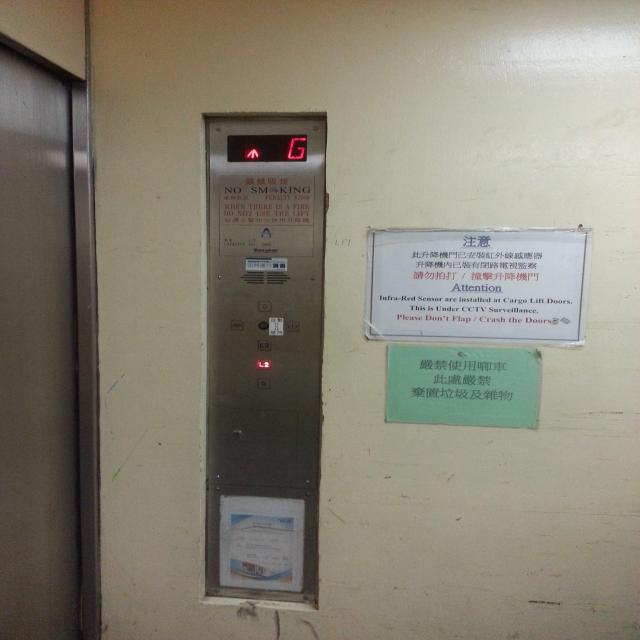G: (257, 378, 270, 388)
L2: (257, 358, 271, 370)
L3: (257, 339, 272, 351)
alarm: (257, 300, 272, 312)
blur: (257, 321, 269, 329)
close: (285, 320, 299, 332)
keyhole: (231, 429, 242, 438)
led: (225, 133, 308, 163)
open: (230, 319, 243, 331)
